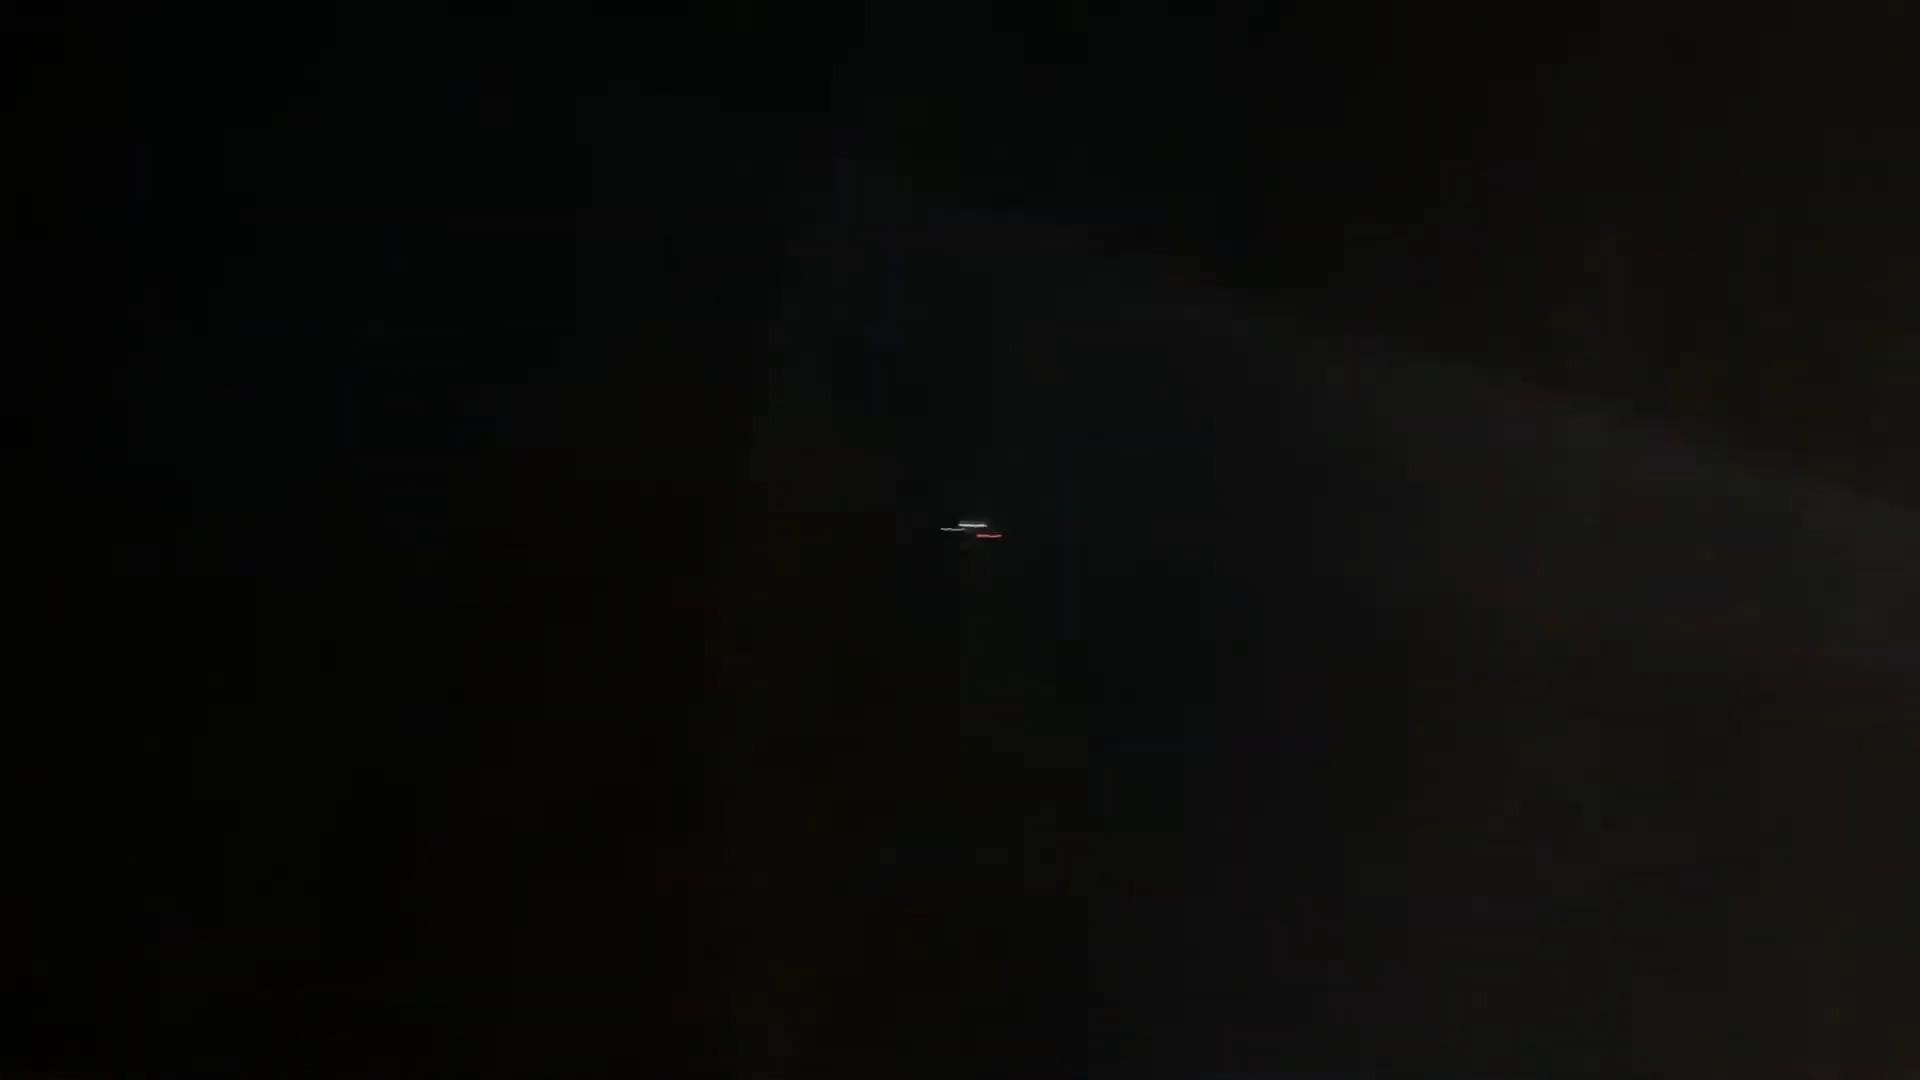Plane: (909, 508, 1039, 559)
